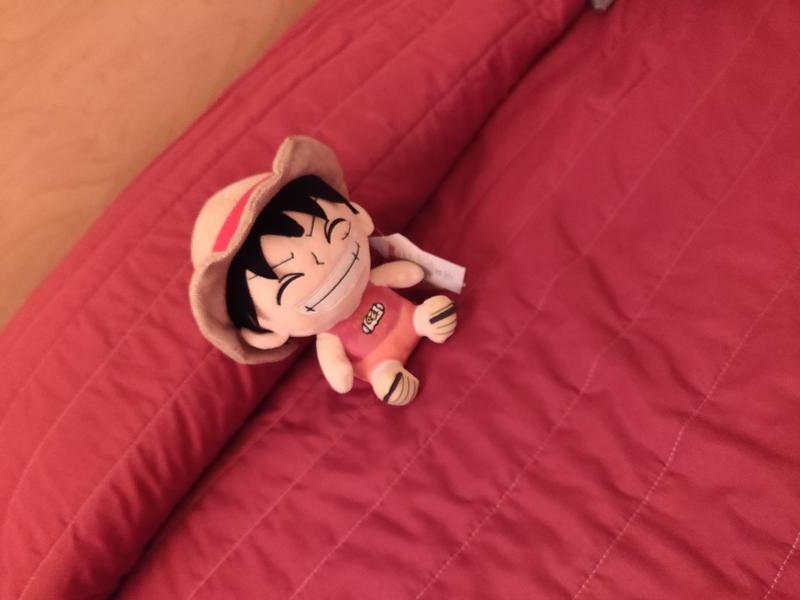rufy: (189, 123, 483, 417)
